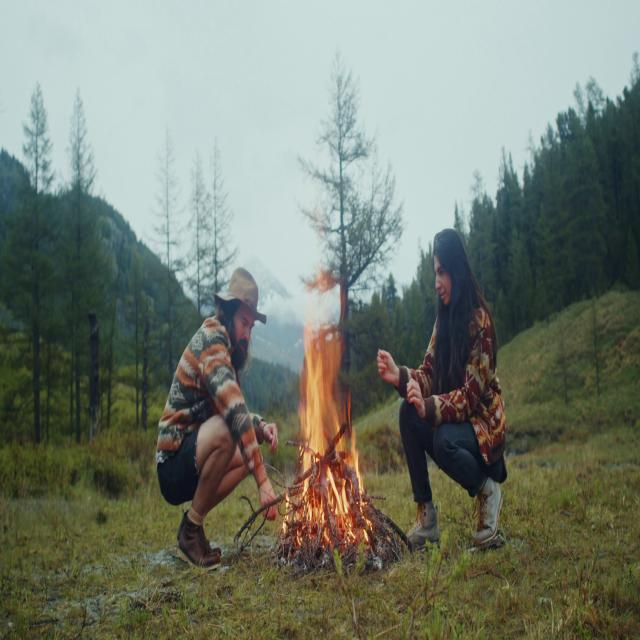Fire: (278, 293, 374, 559)
